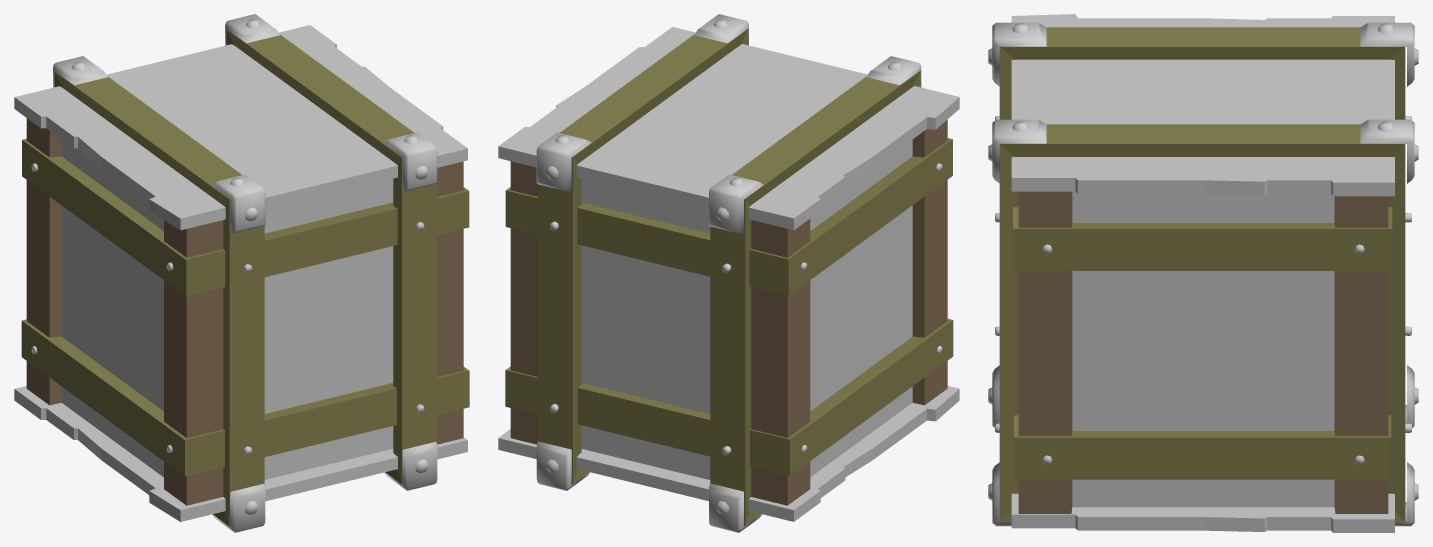
File: Crate_Wooden.gltf
3 views of the same model, side by side, from view 1: azimuth 30°, elevation 25°; view 2: azimuth 150°, elevation 25°; view 3: azimuth 270°, elevation 25° (orthographic). The views are drawn at different scales.
Visible parts, largest first — view 1: Crate_Wooden; view 2: Crate_Wooden; view 3: Crate_Wooden.
Part boxes in pixels (x1=…): Crate_Wooden: x1=14, y1=14, x2=469, y2=532; Crate_Wooden: x1=498, y1=14, x2=959, y2=532; Crate_Wooden: x1=988, y1=14, x2=1418, y2=532.
Bounding box in the file's own units: 0.8423 × 0.9309 × 0.9083.
